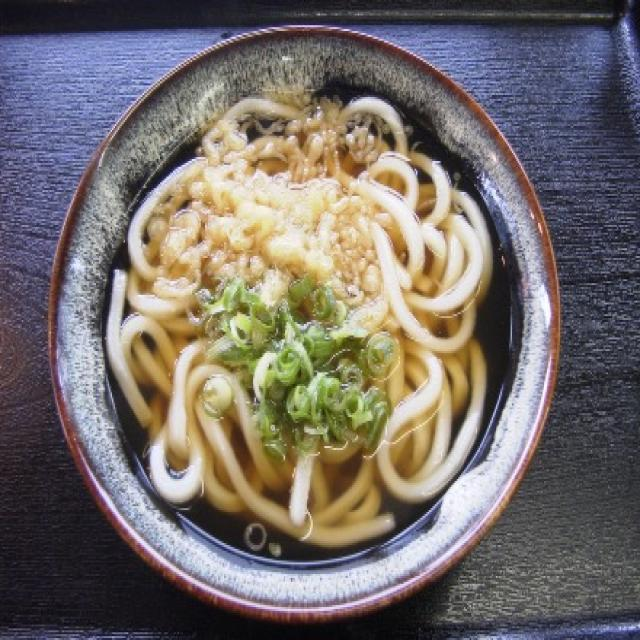面条主食: (98, 44, 532, 594)
